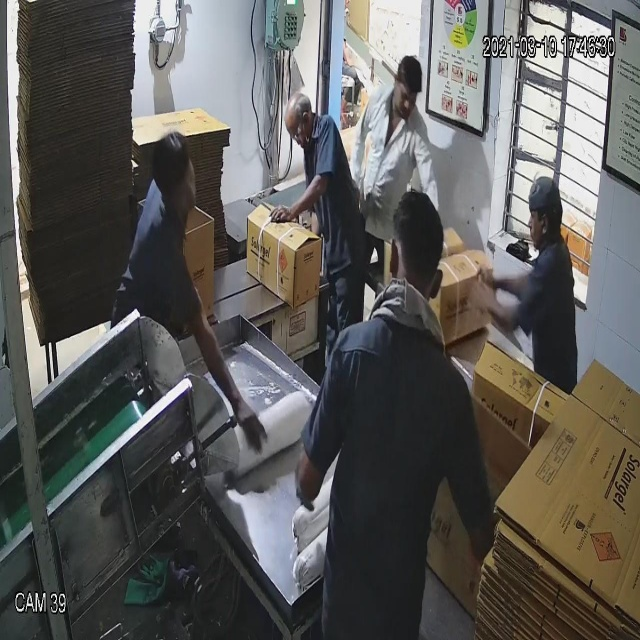Sin_guantes: (187, 295, 274, 459), (267, 168, 341, 239), (468, 244, 534, 304)
